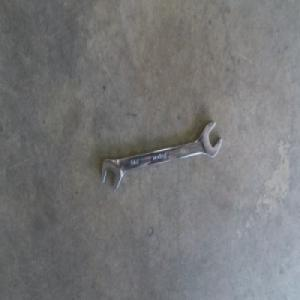Wrench: (101, 121, 223, 191)
